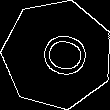O_W: (27, 27, 88, 82)
